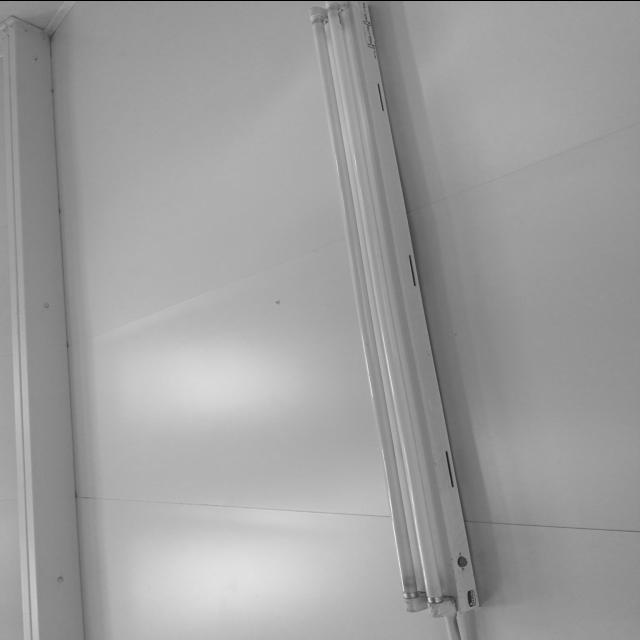light: (310, 1, 478, 616)
